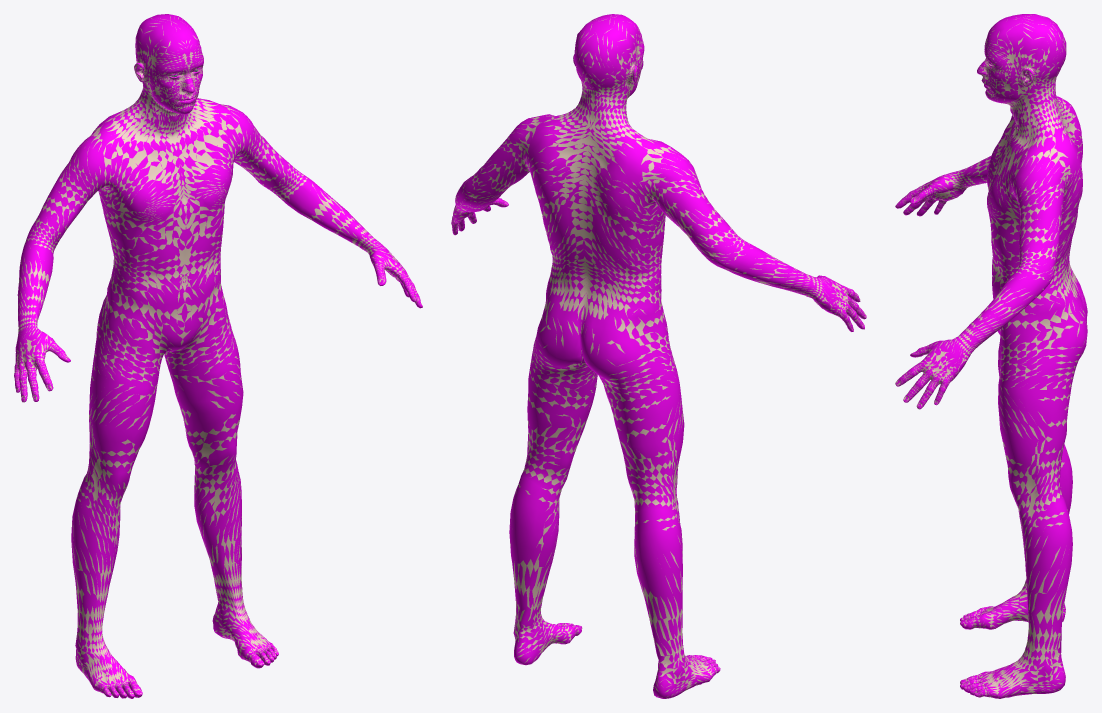
File: mezczyzna.glb
3 views of the same model, side by side, from view 1: azimuth 30°, elevation 25°; view 2: azimuth 150°, elevation 25°; view 3: azimuth 270°, elevation 25° (orthographic).
Parts seen in each view (by area): view 1: Kolizja, Ciało; view 2: Kolizja, Ciało; view 3: Kolizja, Ciało.
Part boxes in pixels (bbox=[...]): Kolizja: bbox=[14, 14, 422, 698]; Ciało: bbox=[14, 16, 421, 697]; Kolizja: bbox=[451, 14, 866, 698]; Ciało: bbox=[452, 15, 866, 698]; Kolizja: bbox=[895, 14, 1087, 698]; Ciało: bbox=[895, 14, 1086, 698].
Bounding box in the file's own units: 1.14 × 1.75 × 0.4755.
